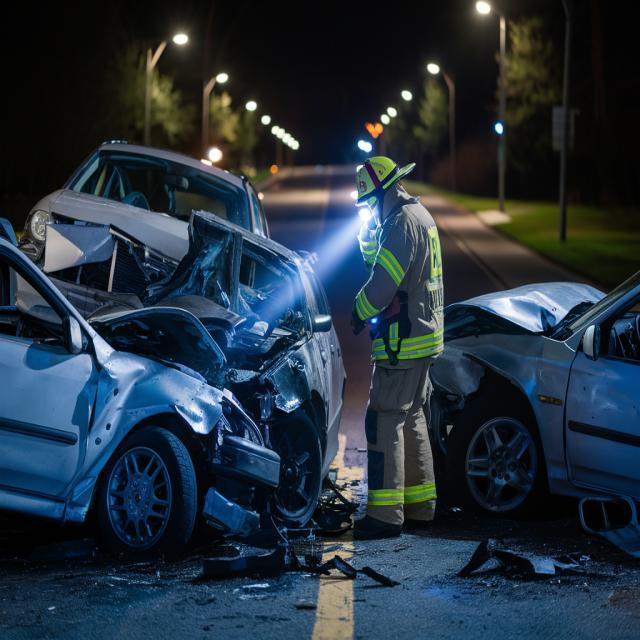Accident: (0, 129, 359, 579), (423, 271, 630, 552)
